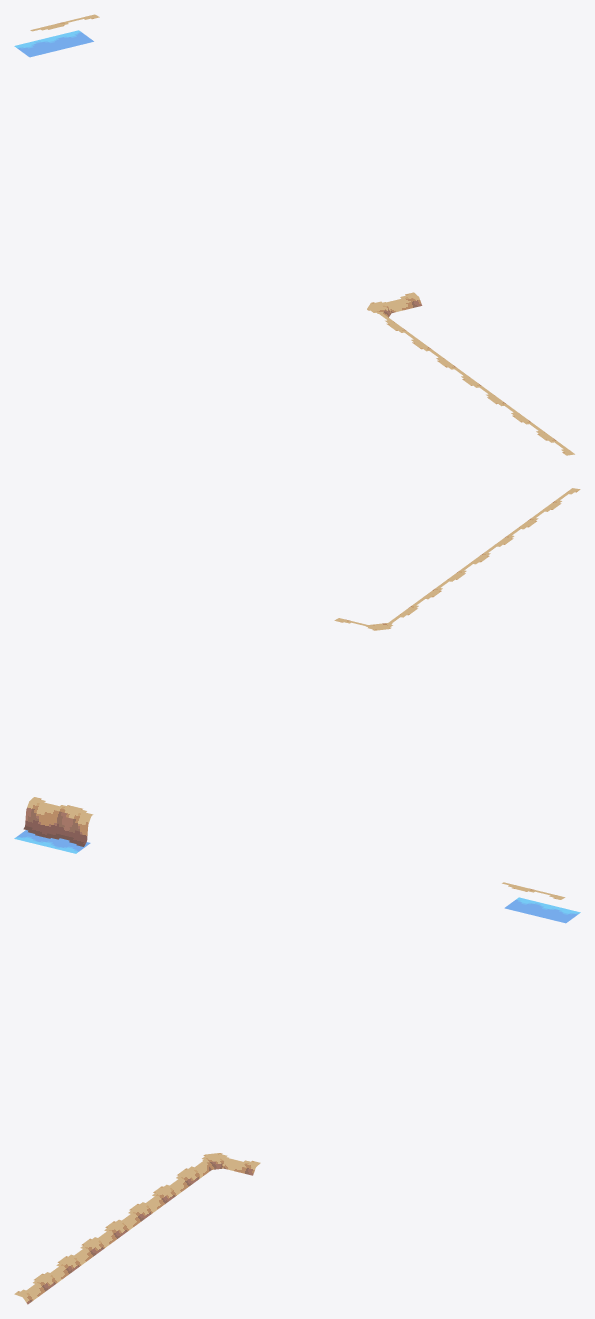
Rendered from berge-mare-rom-16.glb.
3 renders of one model, top to bottom at view 1: azimuth 30°, elevation 25°; view 2: azimuth 150°, elevation 25°; view 3: azimuth 330°, elevation 25°, orthographic. The views are drawn at different scales.
Bounding box in the file's own units: 1.5 × 1.16 × 21.62.
Materials: 2 (2 with a texture image).
